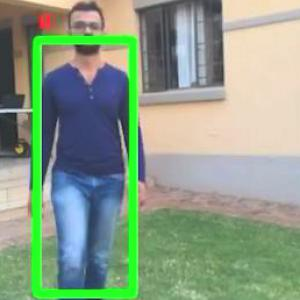follow: (27, 1, 145, 299)
